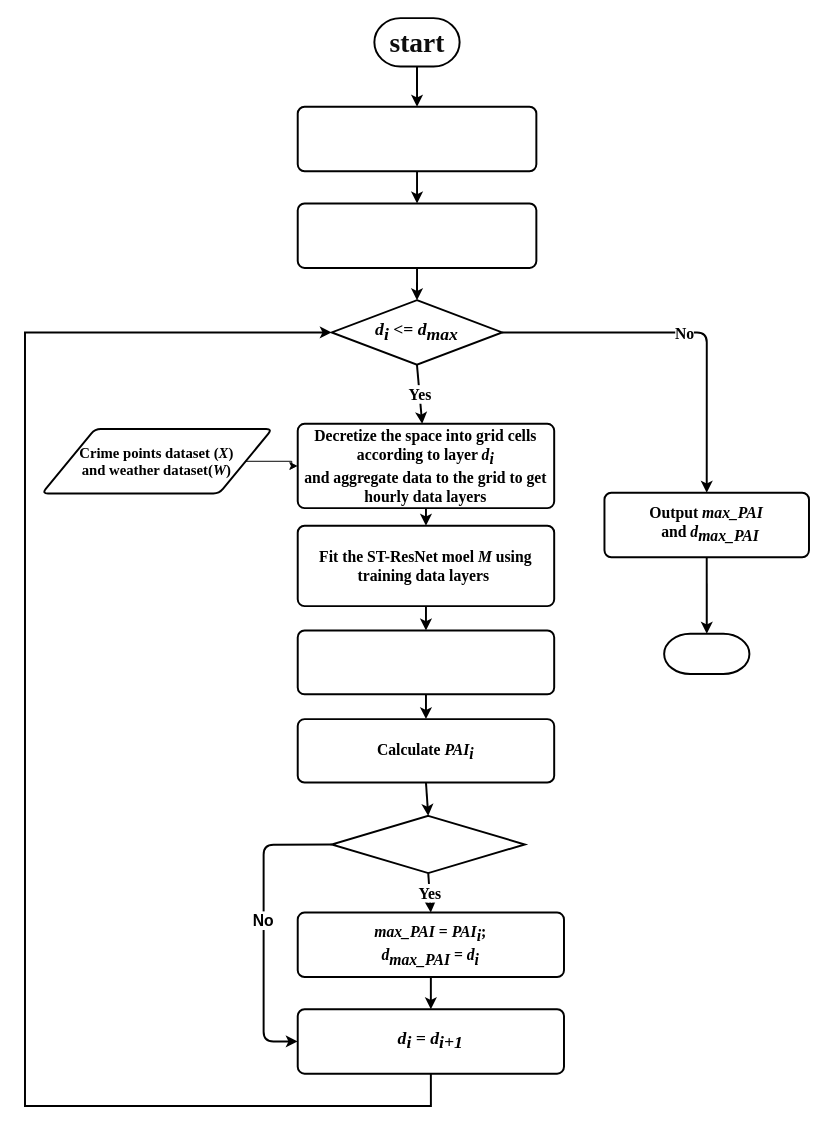
The diagram is 826 pixels wide and 1131 high, and some of its shapes have lost their labels. The shapes that lost their labels are listed below. From the top down, each one's centre as x and y in pixels, then its label:
(416,138): Set the extent of pyramid layering level d from d min to d max ;
(416,235): max_PAI = 0; d max_PAI = d min ; d i = d min
(425,662): Predict M on test data layers
(706,653): End
(427,844): PAI i > max_PAI
